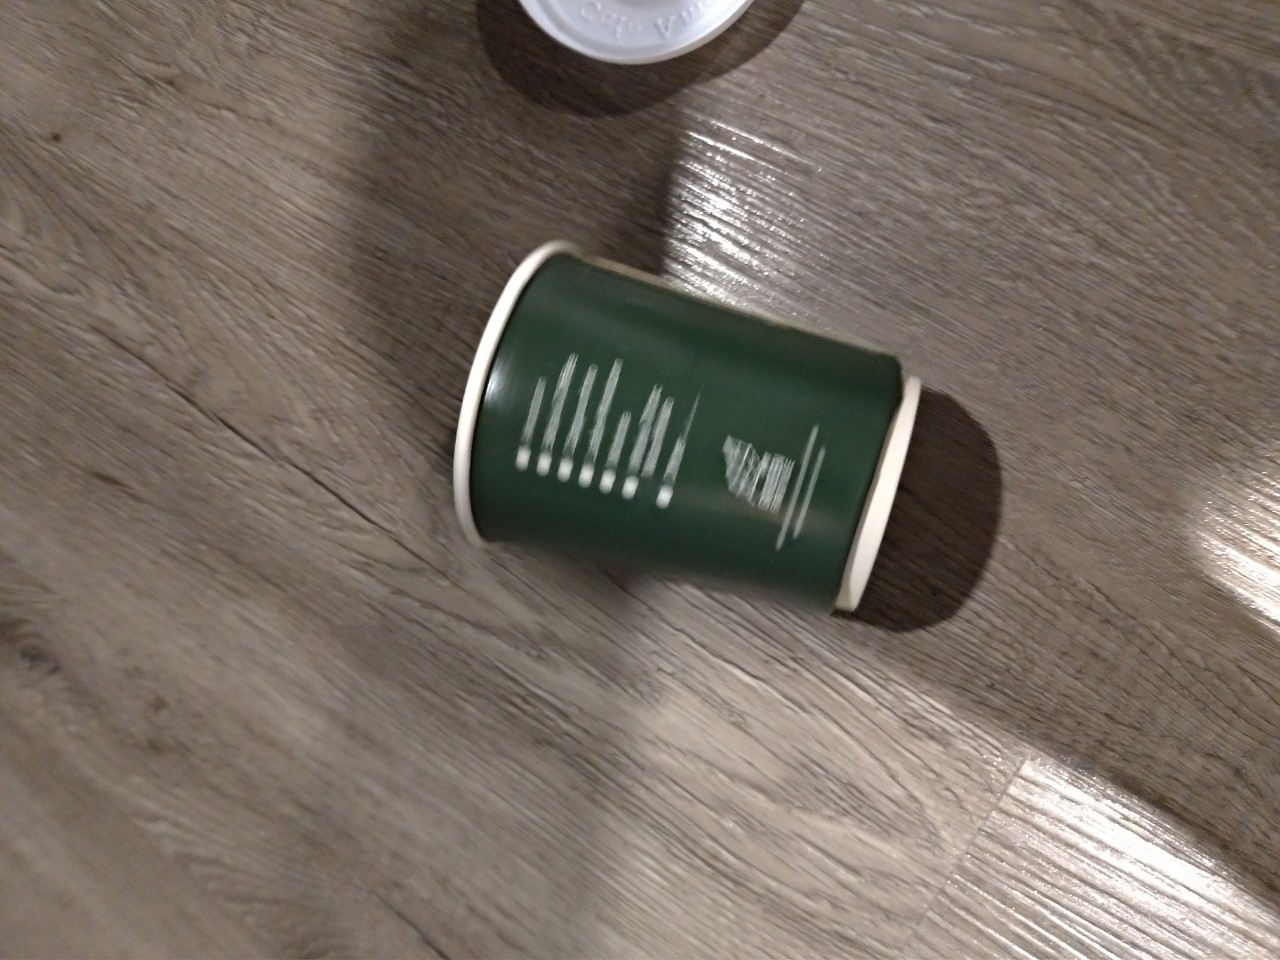PaperCup: (446, 239, 923, 614)
